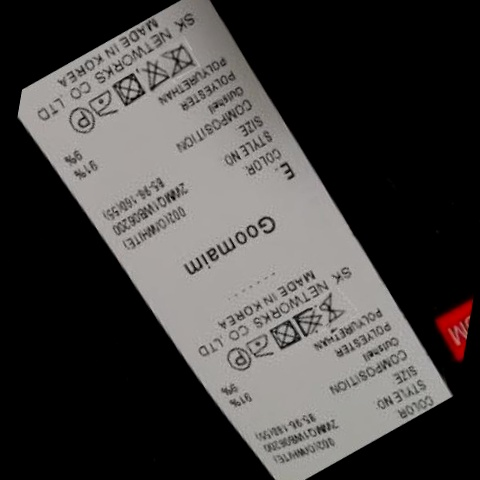DN_bleach: (141, 57, 172, 92), (293, 306, 325, 339)
DN_tumble_dry: (111, 67, 151, 110), (270, 318, 305, 353)
DN_wash: (162, 41, 197, 79), (318, 292, 351, 322)
dry_clean_any_solvent_except_trichloroethylene: (67, 105, 99, 137), (224, 344, 255, 374)
iron_low: (89, 89, 119, 119), (247, 332, 276, 359)
